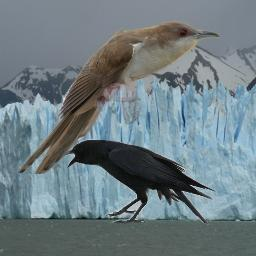Crow: (62, 139, 217, 225)
Cuckoo: (17, 21, 220, 174)
